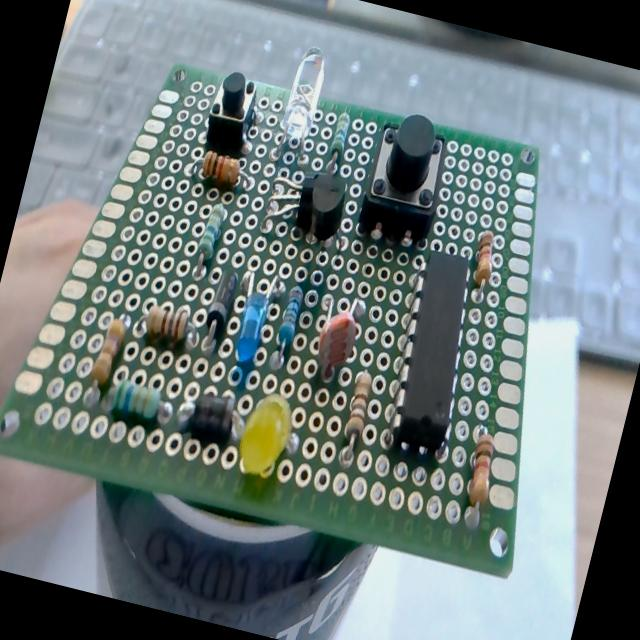IC: (378, 250, 489, 462)
cds: (304, 281, 372, 383)
diode: (172, 386, 245, 450), (202, 266, 240, 344)
led: (265, 38, 339, 168), (222, 384, 308, 484), (228, 268, 278, 368)
resistor: (456, 426, 504, 516), (268, 278, 309, 372), (336, 371, 376, 464), (89, 315, 128, 387), (142, 300, 192, 350), (111, 376, 164, 422), (194, 198, 228, 266), (323, 105, 354, 174), (468, 229, 501, 288), (198, 148, 242, 188)
switch: (352, 108, 458, 253), (200, 65, 265, 158)
transistor: (252, 160, 334, 252), (296, 167, 362, 258)
